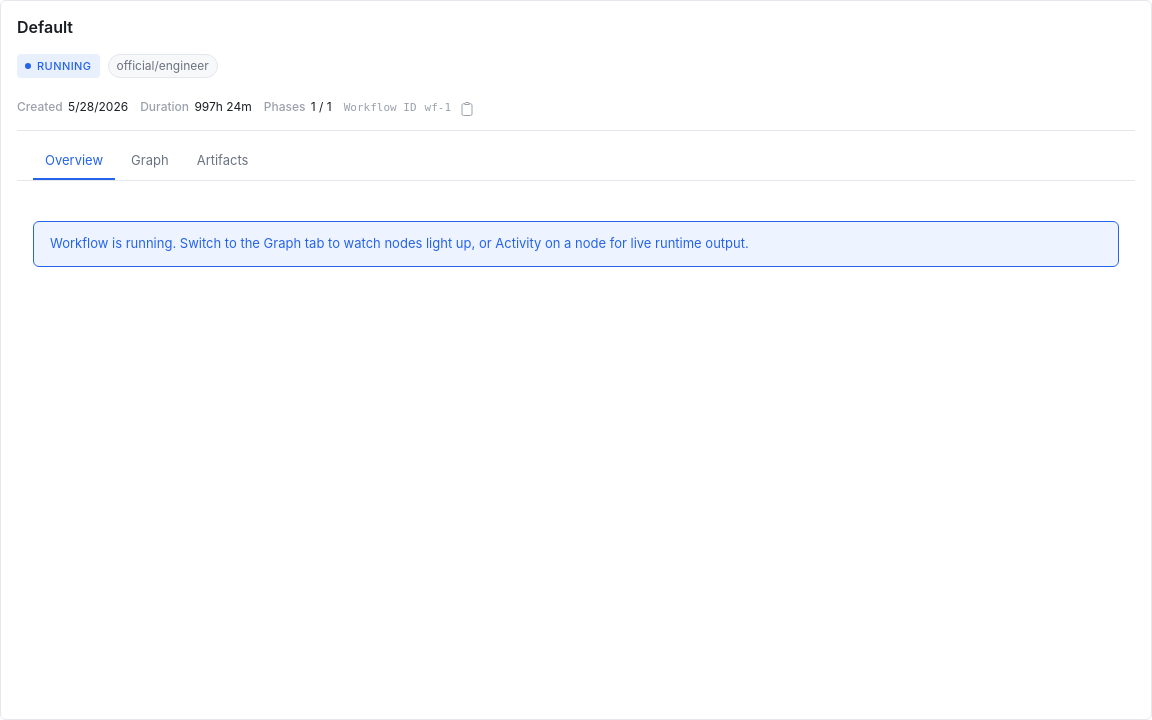
WorkflowView — tablist › swaps the active panel when a tab is clicked
Click the tab with test id "workflow-tab-graph".
click(150, 162)  # box [119, 143, 181, 180]
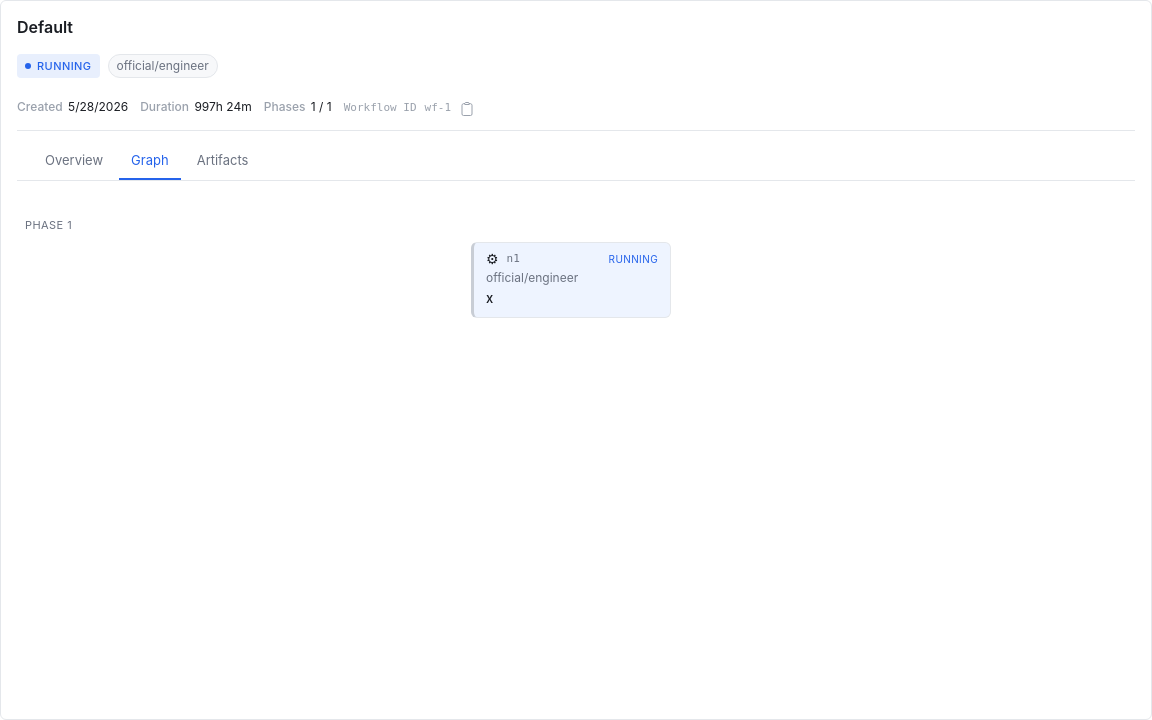
Expected: the panel with test id "workflow-tabpanel-graph" is shown
